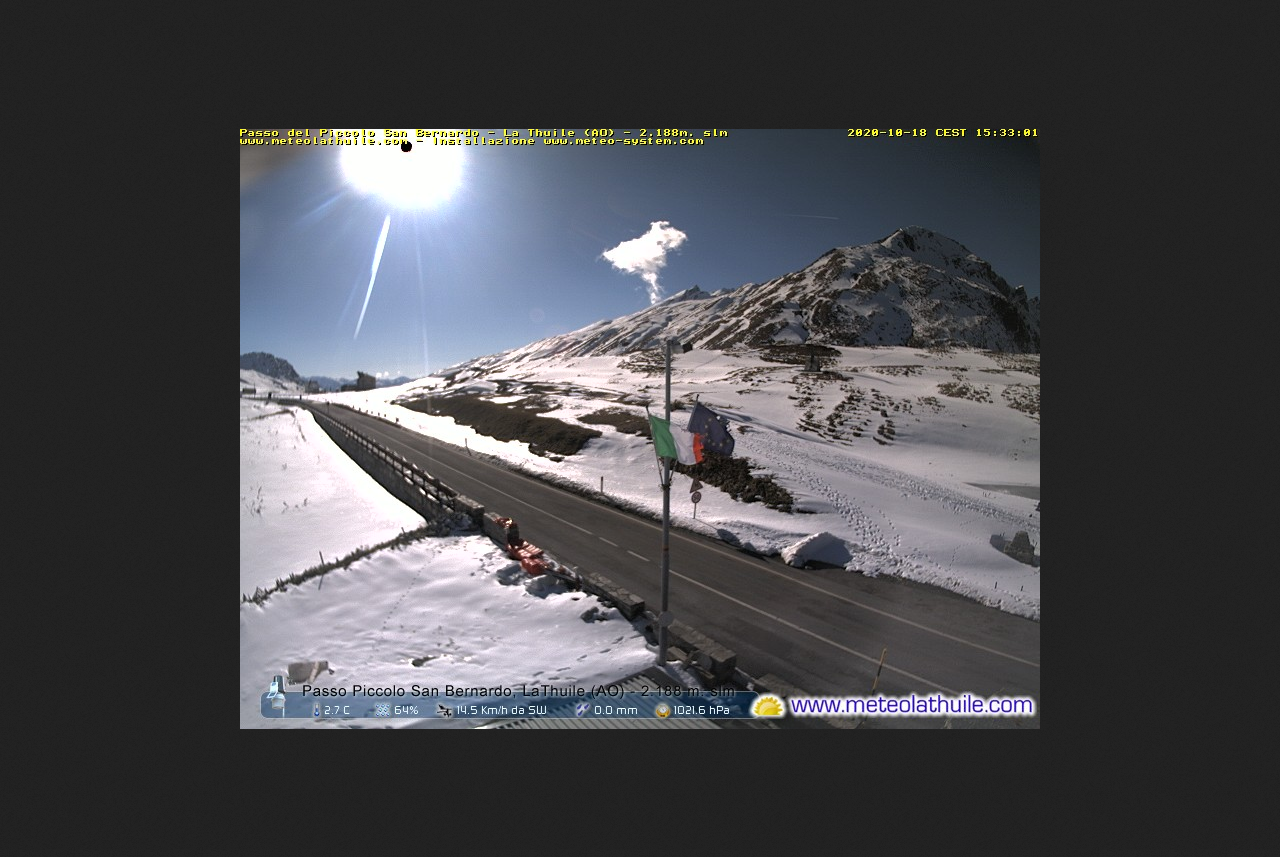yes: (688, 403, 735, 479), (645, 413, 704, 468)
